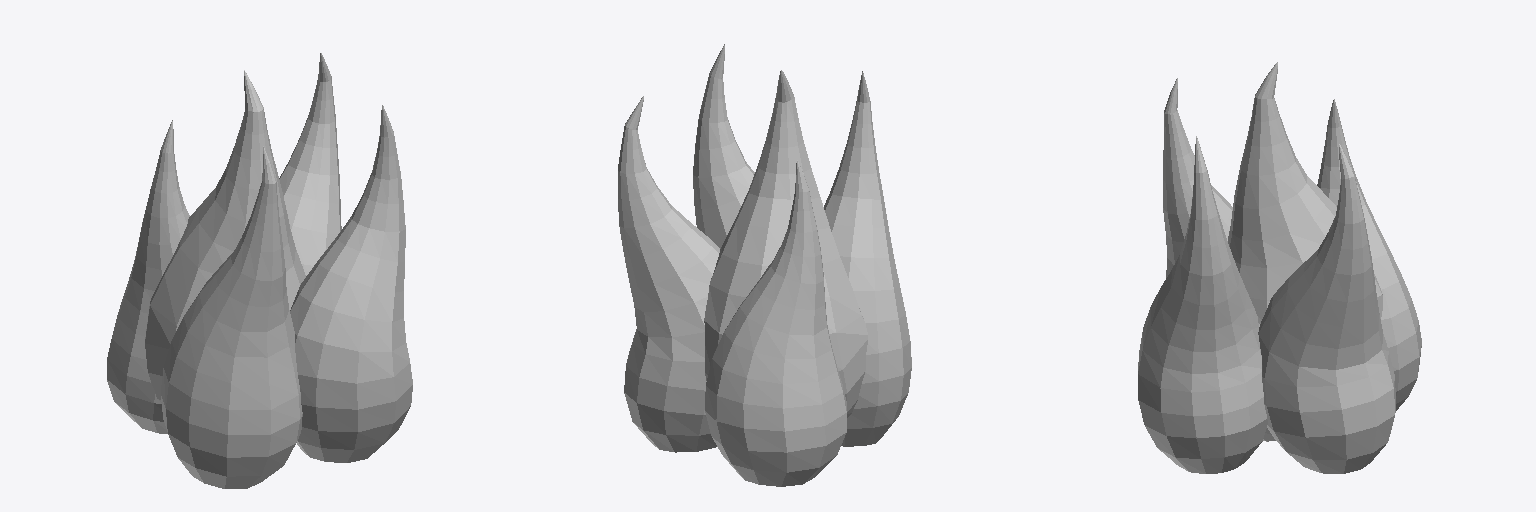
The model's file is fire_000031.obj.
3 views of the same model, side by side, from view 1: azimuth 30°, elevation 25°; view 2: azimuth 150°, elevation 25°; view 3: azimuth 270°, elevation 25° (orthographic).
Parts seen in each view (by area): view 1: flame_NurbsPath.015; view 2: flame_NurbsPath.015; view 3: flame_NurbsPath.015.
Part boxes in pixels (left/top/right/bottom): flame_NurbsPath.015: left=107, top=53, right=412, bottom=488; flame_NurbsPath.015: left=618, top=44, right=911, bottom=486; flame_NurbsPath.015: left=1138, top=62, right=1421, bottom=473.
Bounding box in the file's own units: 0.7461 × 1.19 × 0.8123.